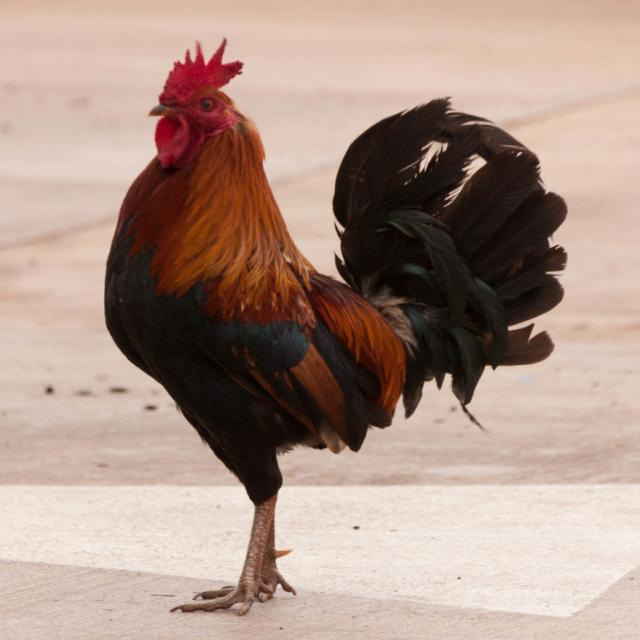Chicken: (101, 36, 567, 613)
